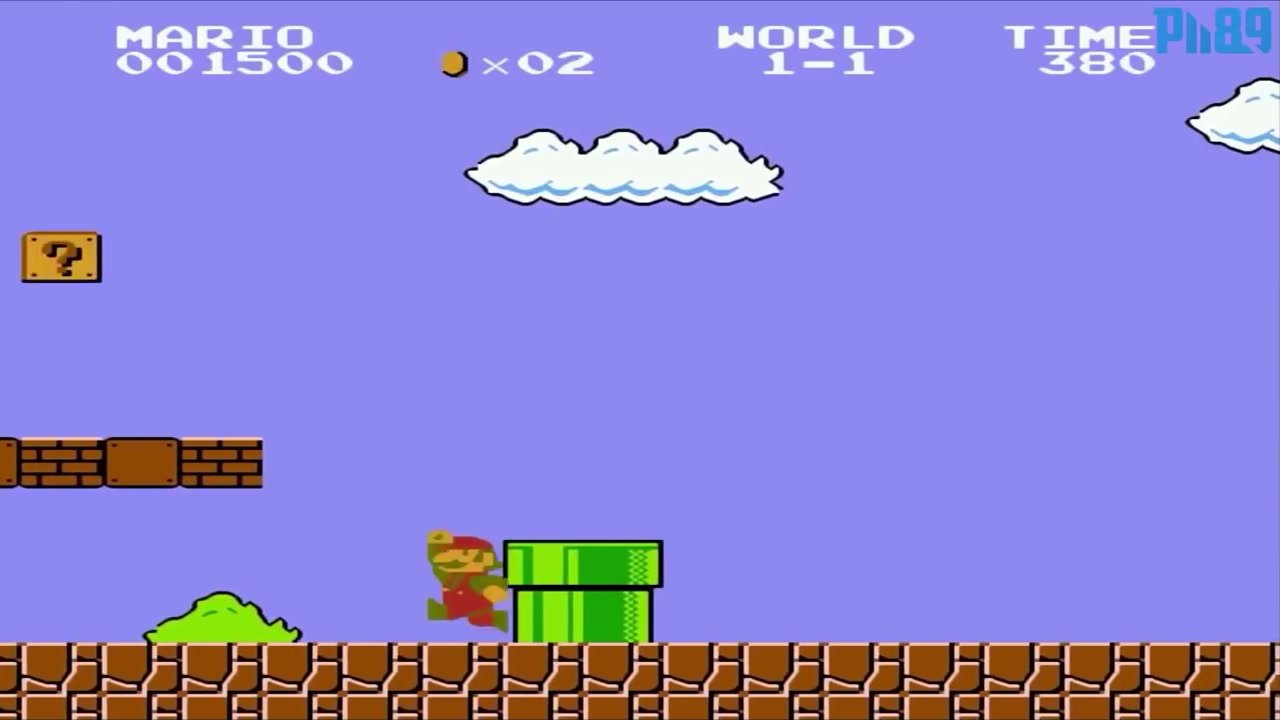mario: (412, 518, 523, 640)
